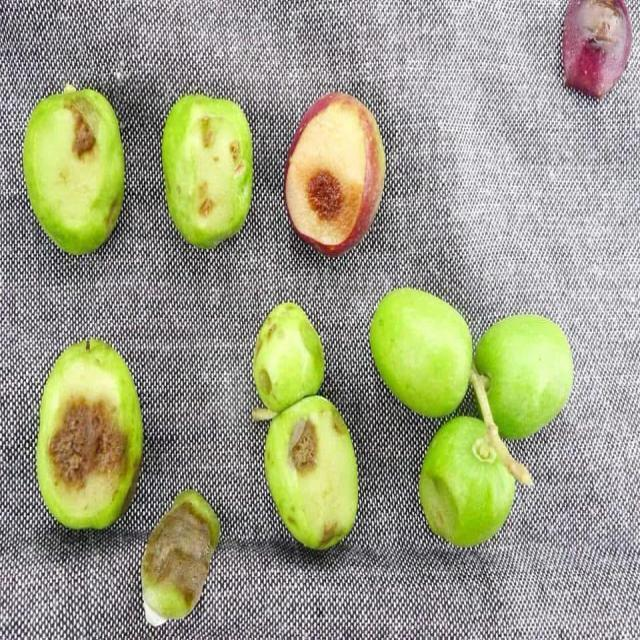Anthracnose: (252, 302, 357, 548), (36, 338, 142, 528), (23, 85, 124, 254), (284, 93, 384, 250), (163, 95, 252, 248), (142, 491, 219, 626)
